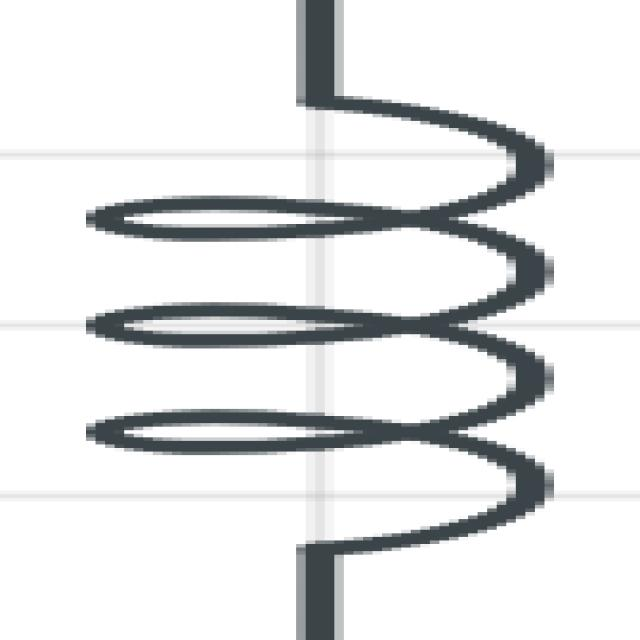inductor: (9, 3, 640, 636)
